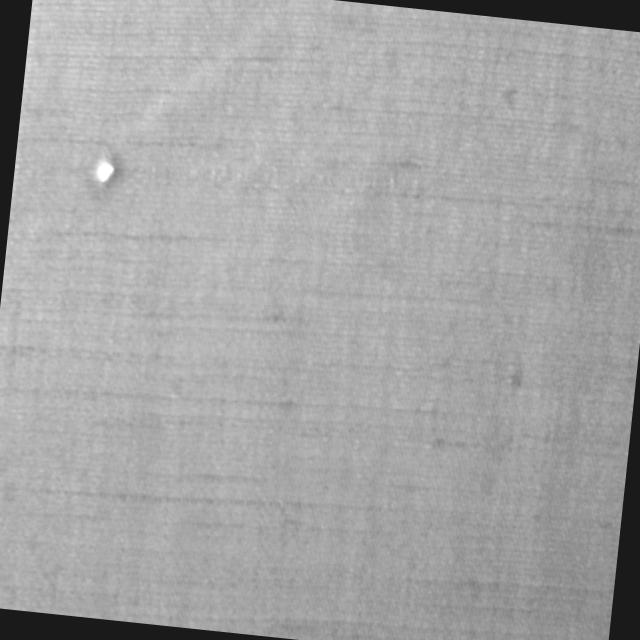hole: (89, 152, 119, 192)
